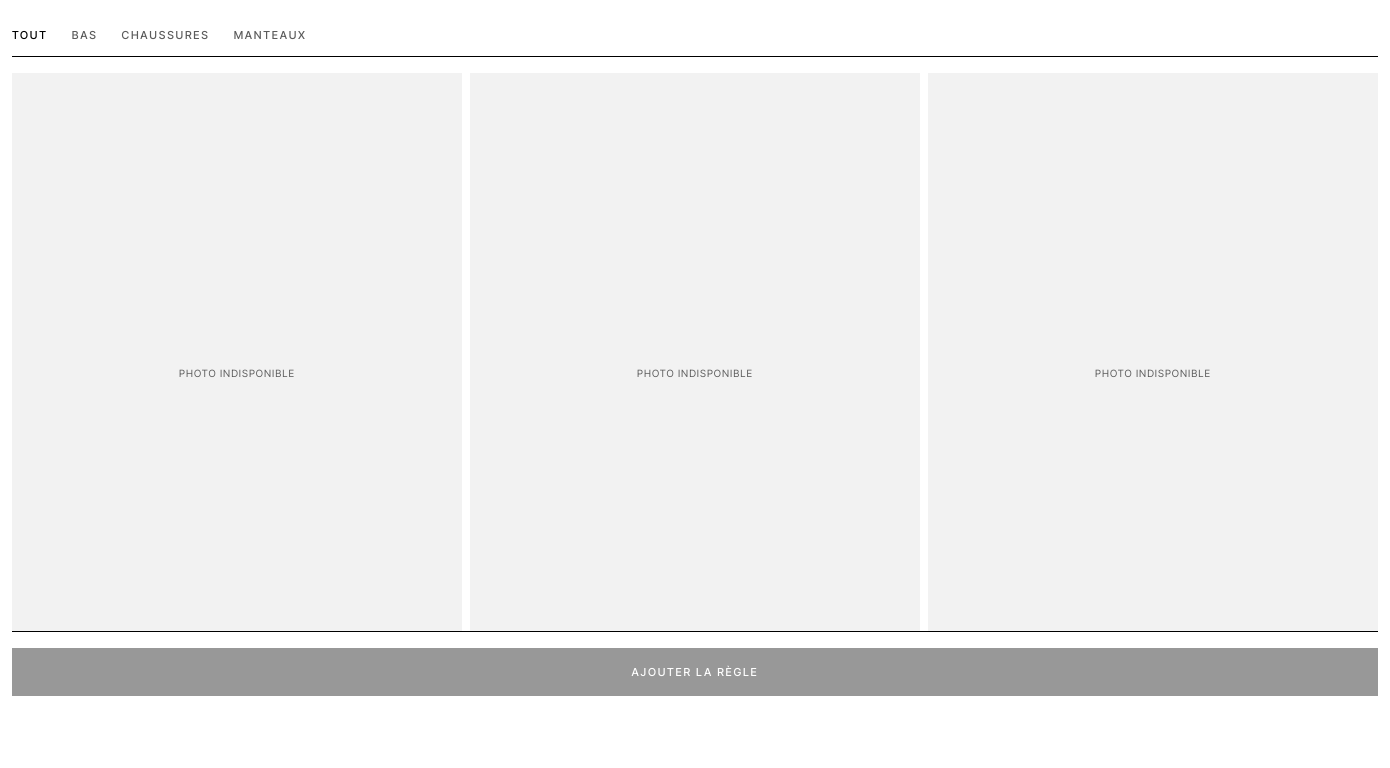
GarmentExclusionPicker › shows the server error and stays on the page
The image size is (1390, 768).
(page scrolled)
Click the checkbox labelled "Bottines" at (1153, 384), box [928, 73, 1378, 695]
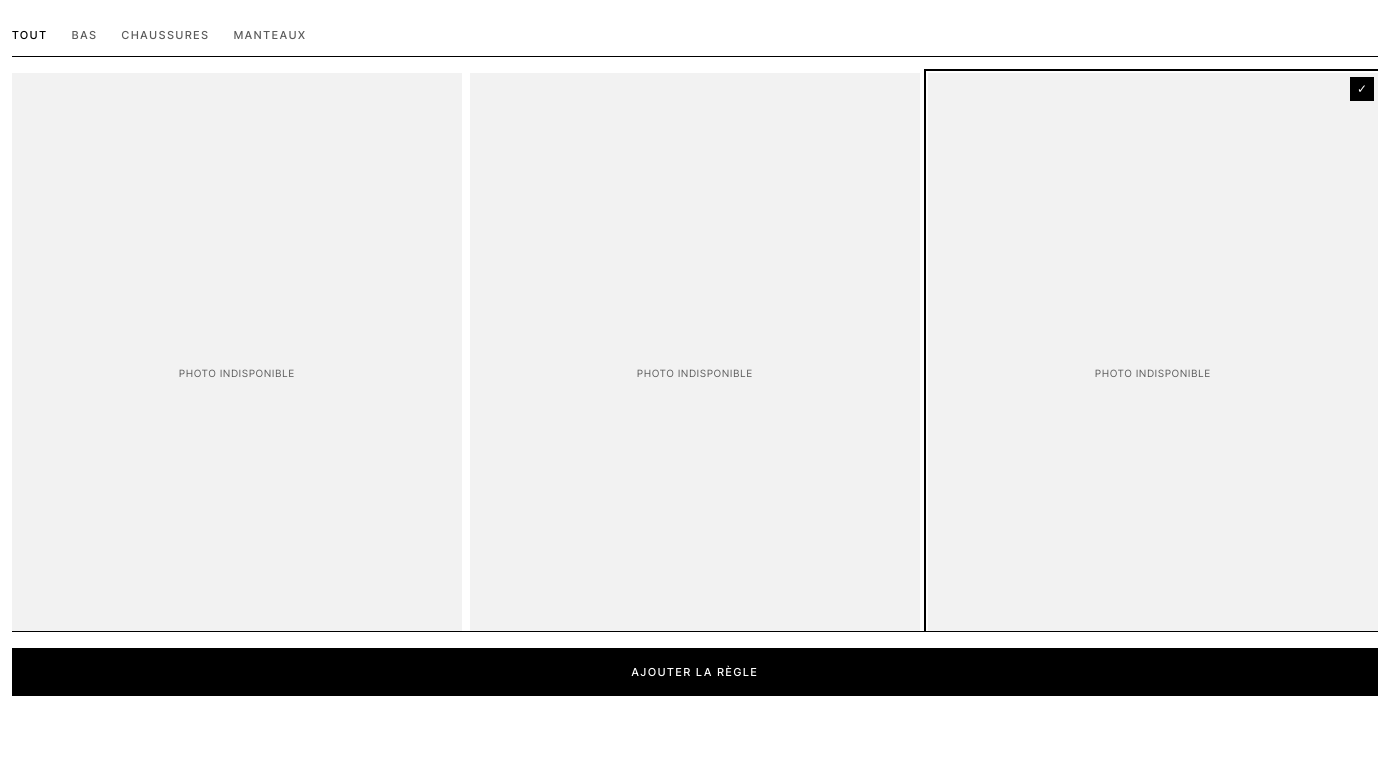
Click the button "Ajouter la règle" at (695, 672), box [12, 648, 1378, 696]
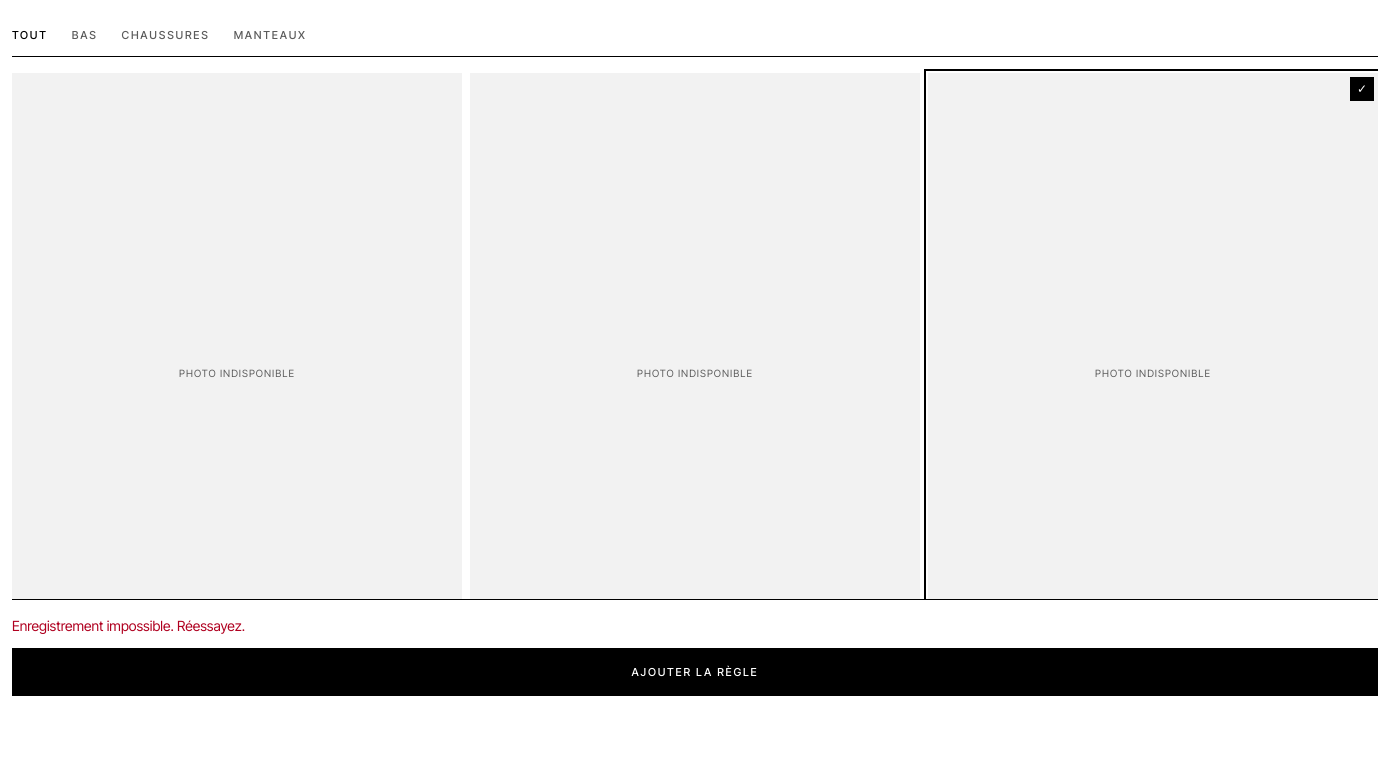
Expected: the message shows "Enregistrement impossible", [12, 617, 245, 634]
